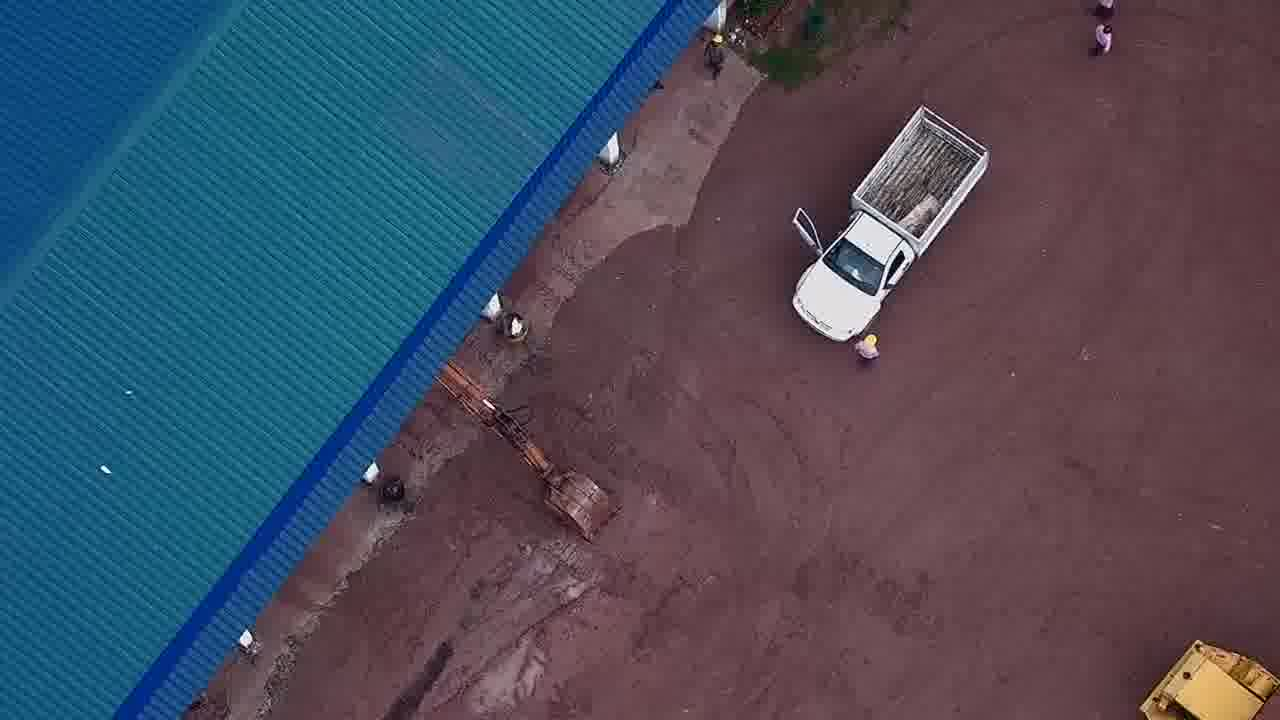light_motor_vehicle: (790, 103, 992, 343)
person: (854, 330, 883, 371), (704, 31, 726, 83), (1088, 20, 1113, 64)
